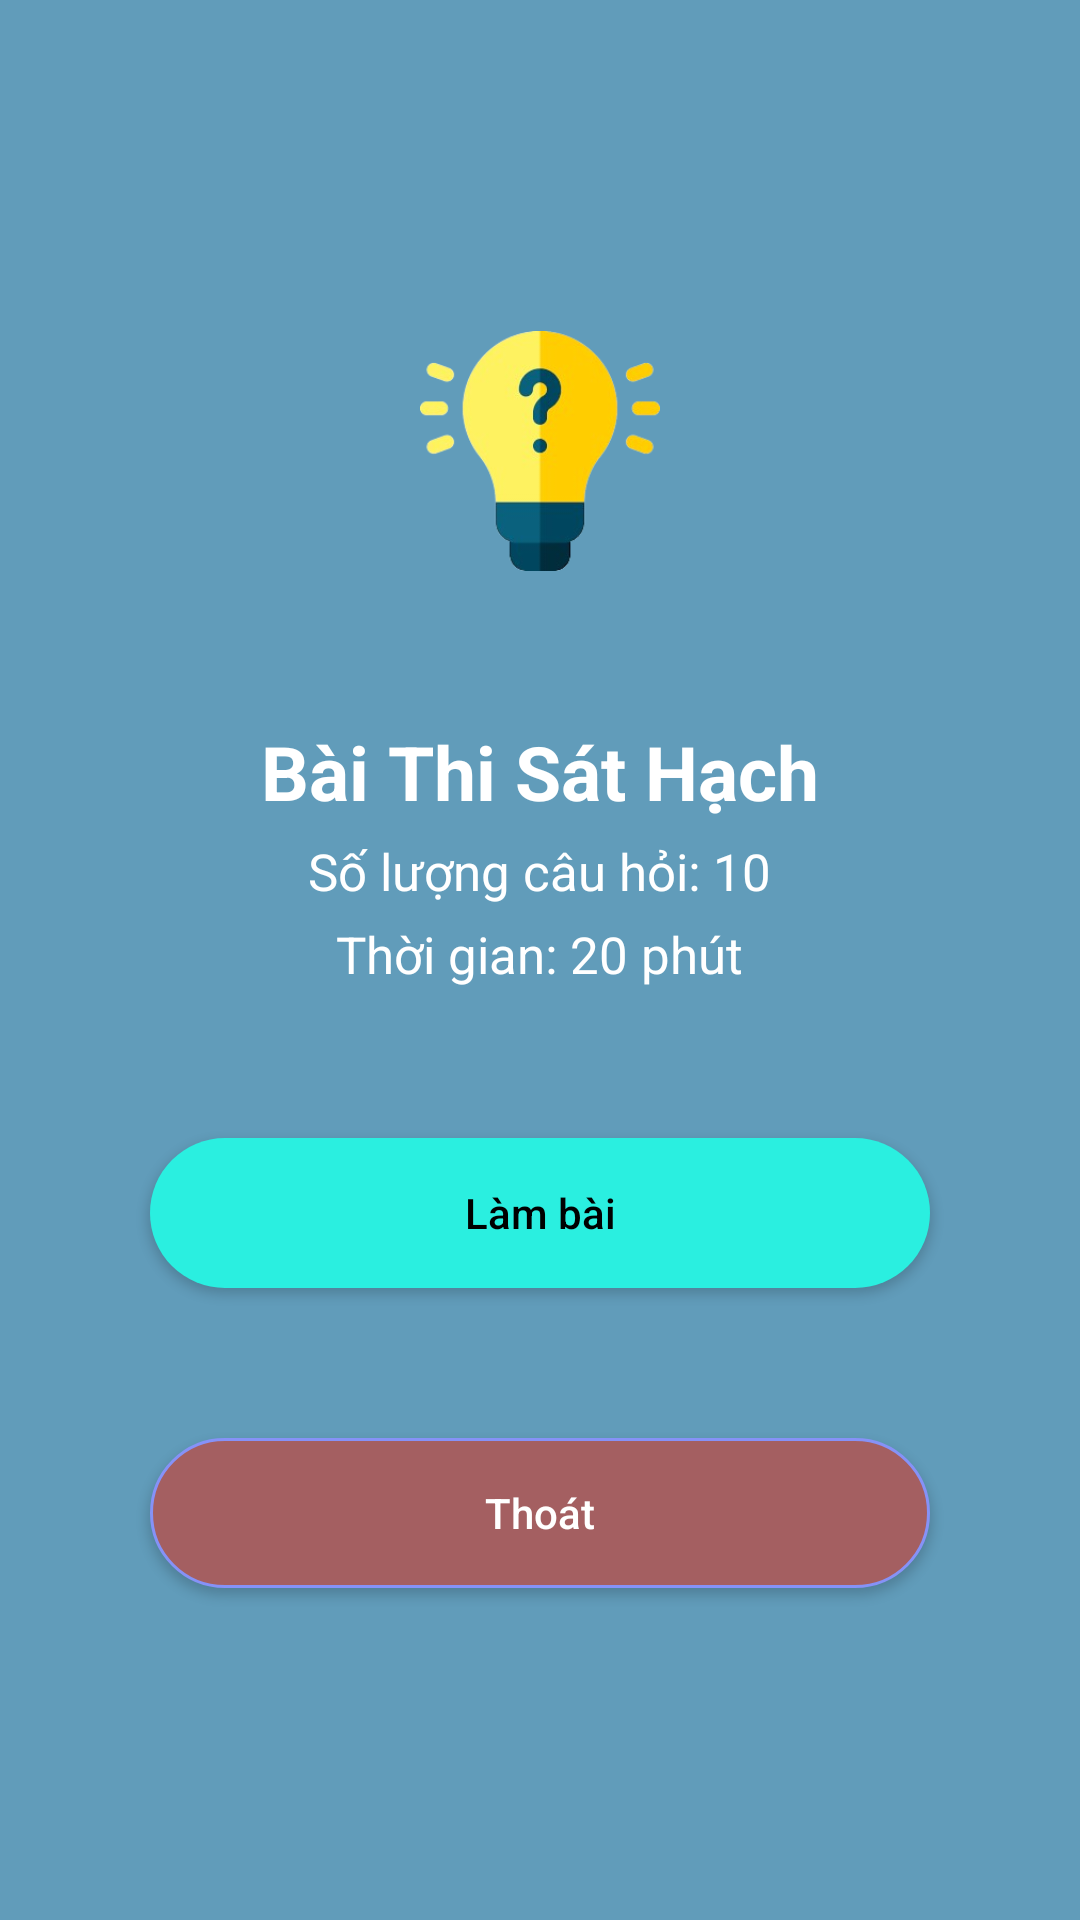

Icons on this 1080×1920 Android screen, each with the point to tap as [x,y]:
quiz: [540,451]
